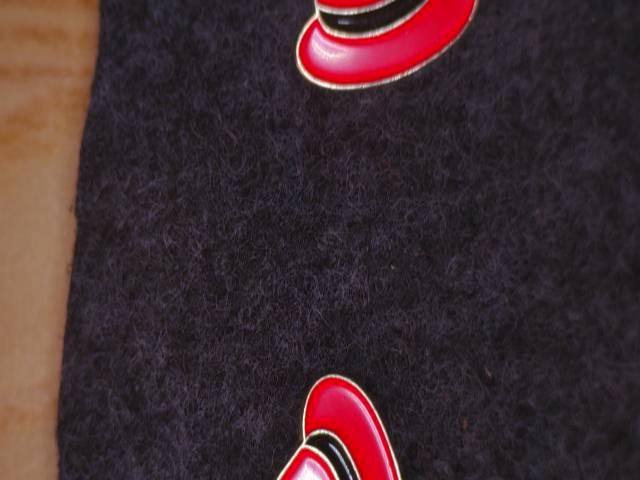Red-Hat: (245, 354, 460, 480), (282, 0, 494, 108)
